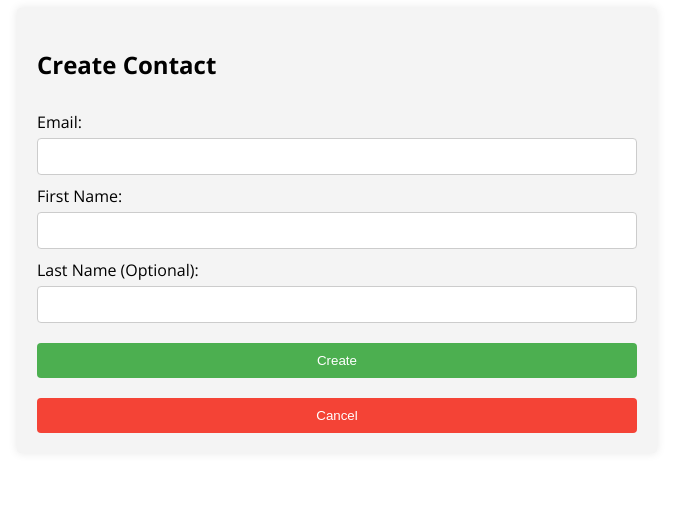
Test: CreateContactPage Component › Gives the correct error message when last name is too short
Step 1. Type "test1@example.com" into the field labelled "Email:" → (337, 156), box [37,138,637,175]
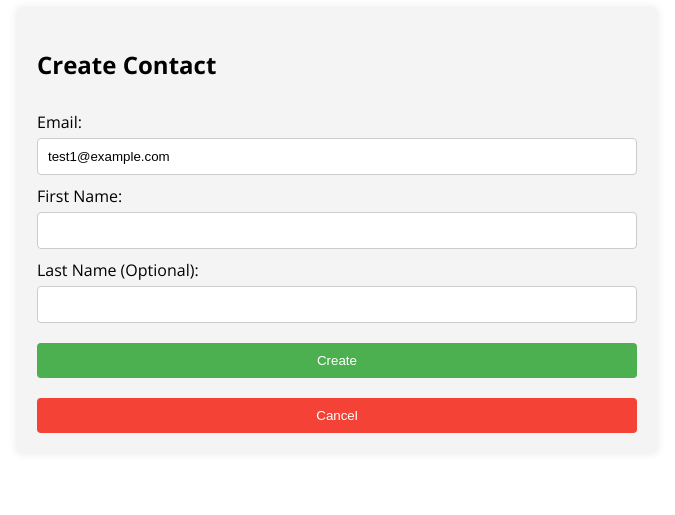
Step 2. Type "ssss" into the field labelled "First Name:" → (337, 230), box [37,212,637,249]
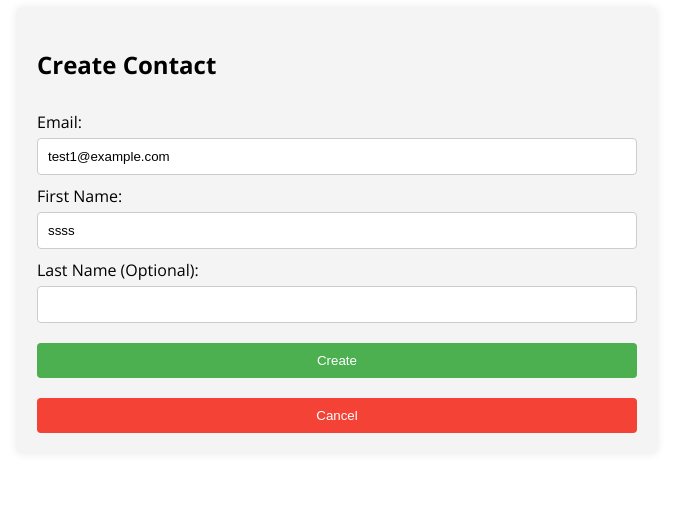
Step 3. Type "s" into the field labelled "Last Name (Optional):" → (337, 304), box [37,286,637,323]
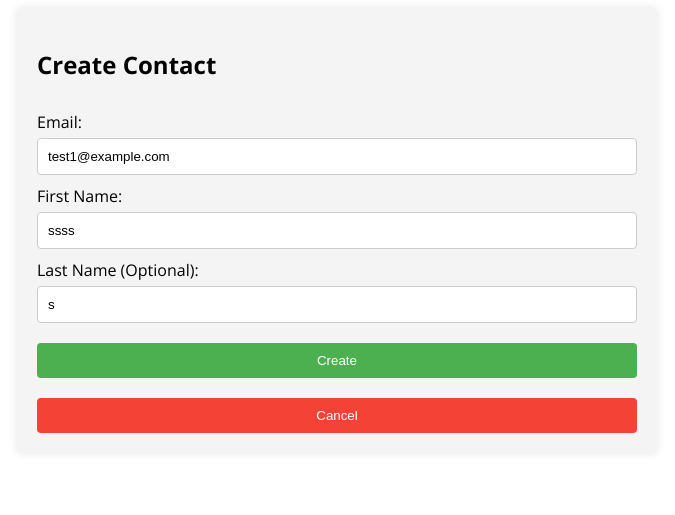
Step 4. Click the button "Create" → (337, 360), box [37,343,637,378]
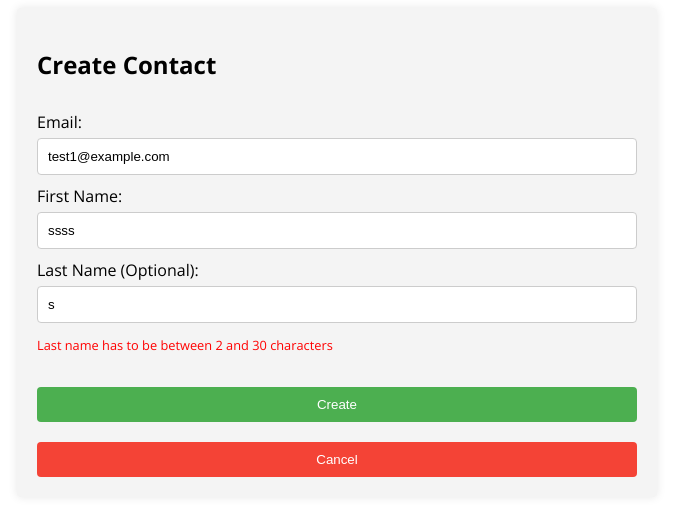
expect the text "Last name has to be between 2 and 30 characters" is shown: met, box [37,336,333,354]
